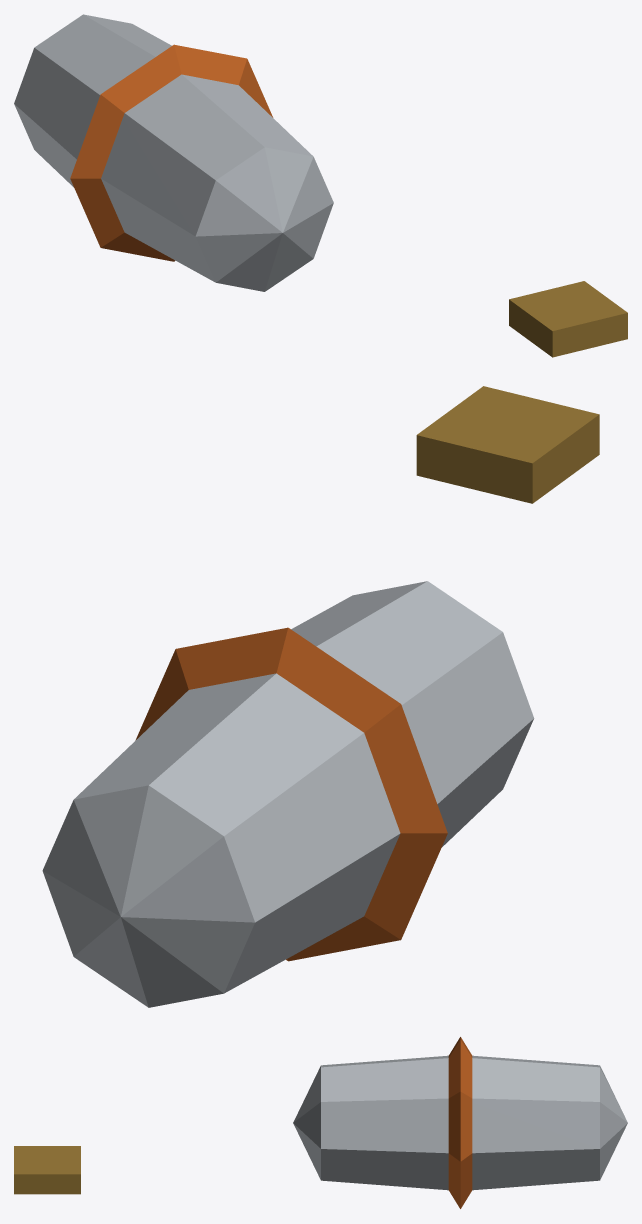
Rendered from implant-device.lod.glb.
3 renders of one model, top to bottom at view 1: azimuth 30°, elevation 25°; view 2: azimuth 150°, elevation 25°; view 3: azimuth 270°, elevation 25°, orthographic. The views are drawn at different scales.
Parts seen in each view (by area): view 1: m; view 2: m; view 3: m.
Boxes of the visible parts, x1,y1,x2,y2 form: m: (14,14,627,357); m: (42,386,599,1007); m: (14,1037,627,1208).
Bounding box in the file's own units: 0.0309 × 0.024 × 0.08.
